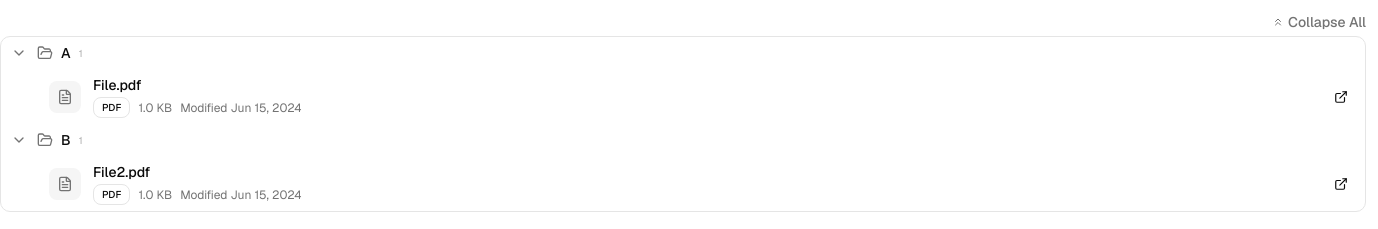
Test: FolderFilesList › global collapse all collapses every folder
The image size is (1378, 229).
Expected: the text "File.pdf" is shown, 93,76 -> 142,94
Expected: the text "File2.pdf" is shown, 93,163 -> 150,181
# Click global collapse all
Step 1. Click the button with test id "global-expand-toggle" → (1319,22), box 1272,12 -> 1366,32
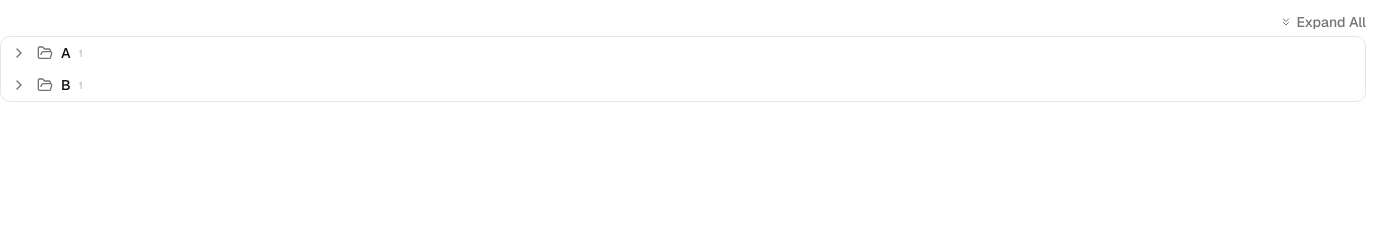
Expected: the text "File.pdf" is gone
Expected: the text "File2.pdf" is gone
